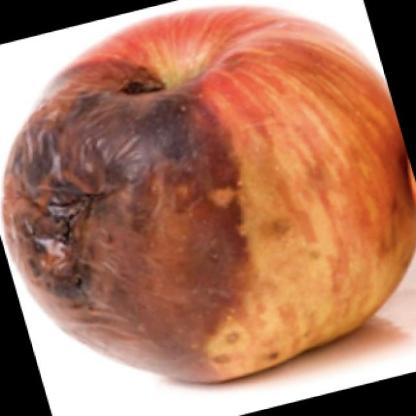defect: (5, 52, 264, 386)
